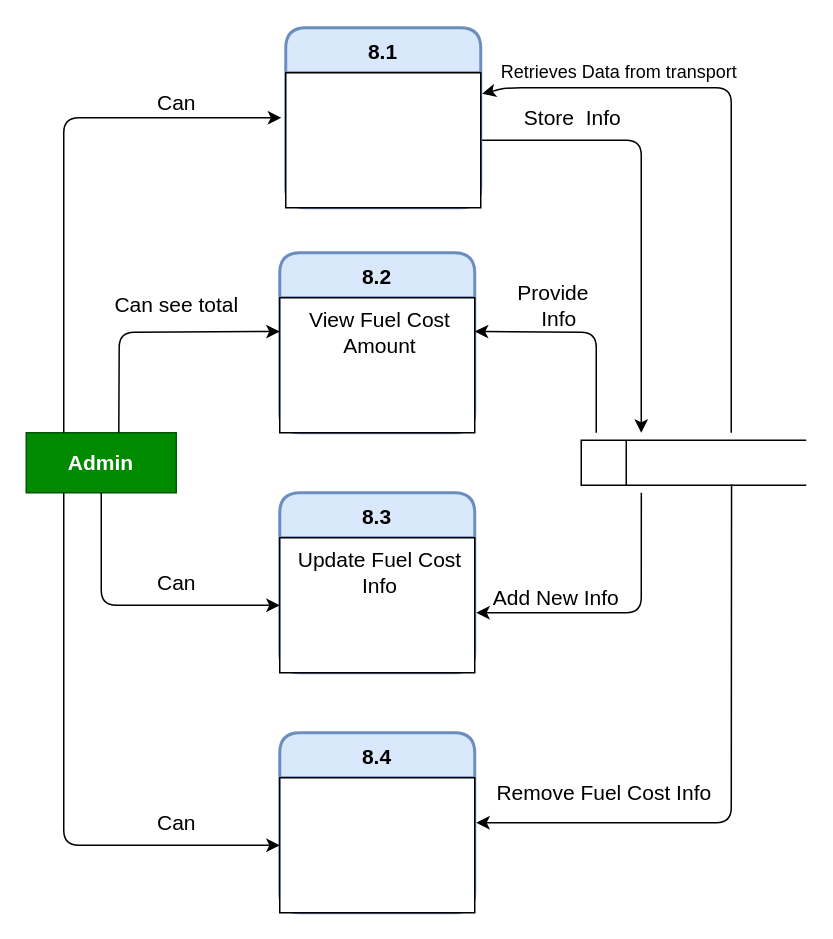
Some shapes in this 833 by 939 pixel diagram are drawn without their labels. The shapes that lost their labels are listed below. From the top down, each one's centre as x and y in pixels, then its label:
[382,139]: Do Fuel Cost Calculation
[693,462]: D1 TSM Database
[376,844]: Delete Fuelcost Info
